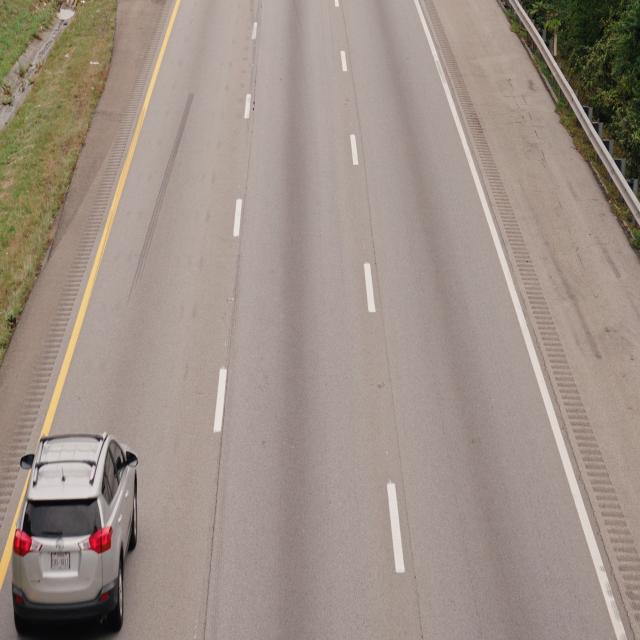Car: (9, 428, 139, 640)
